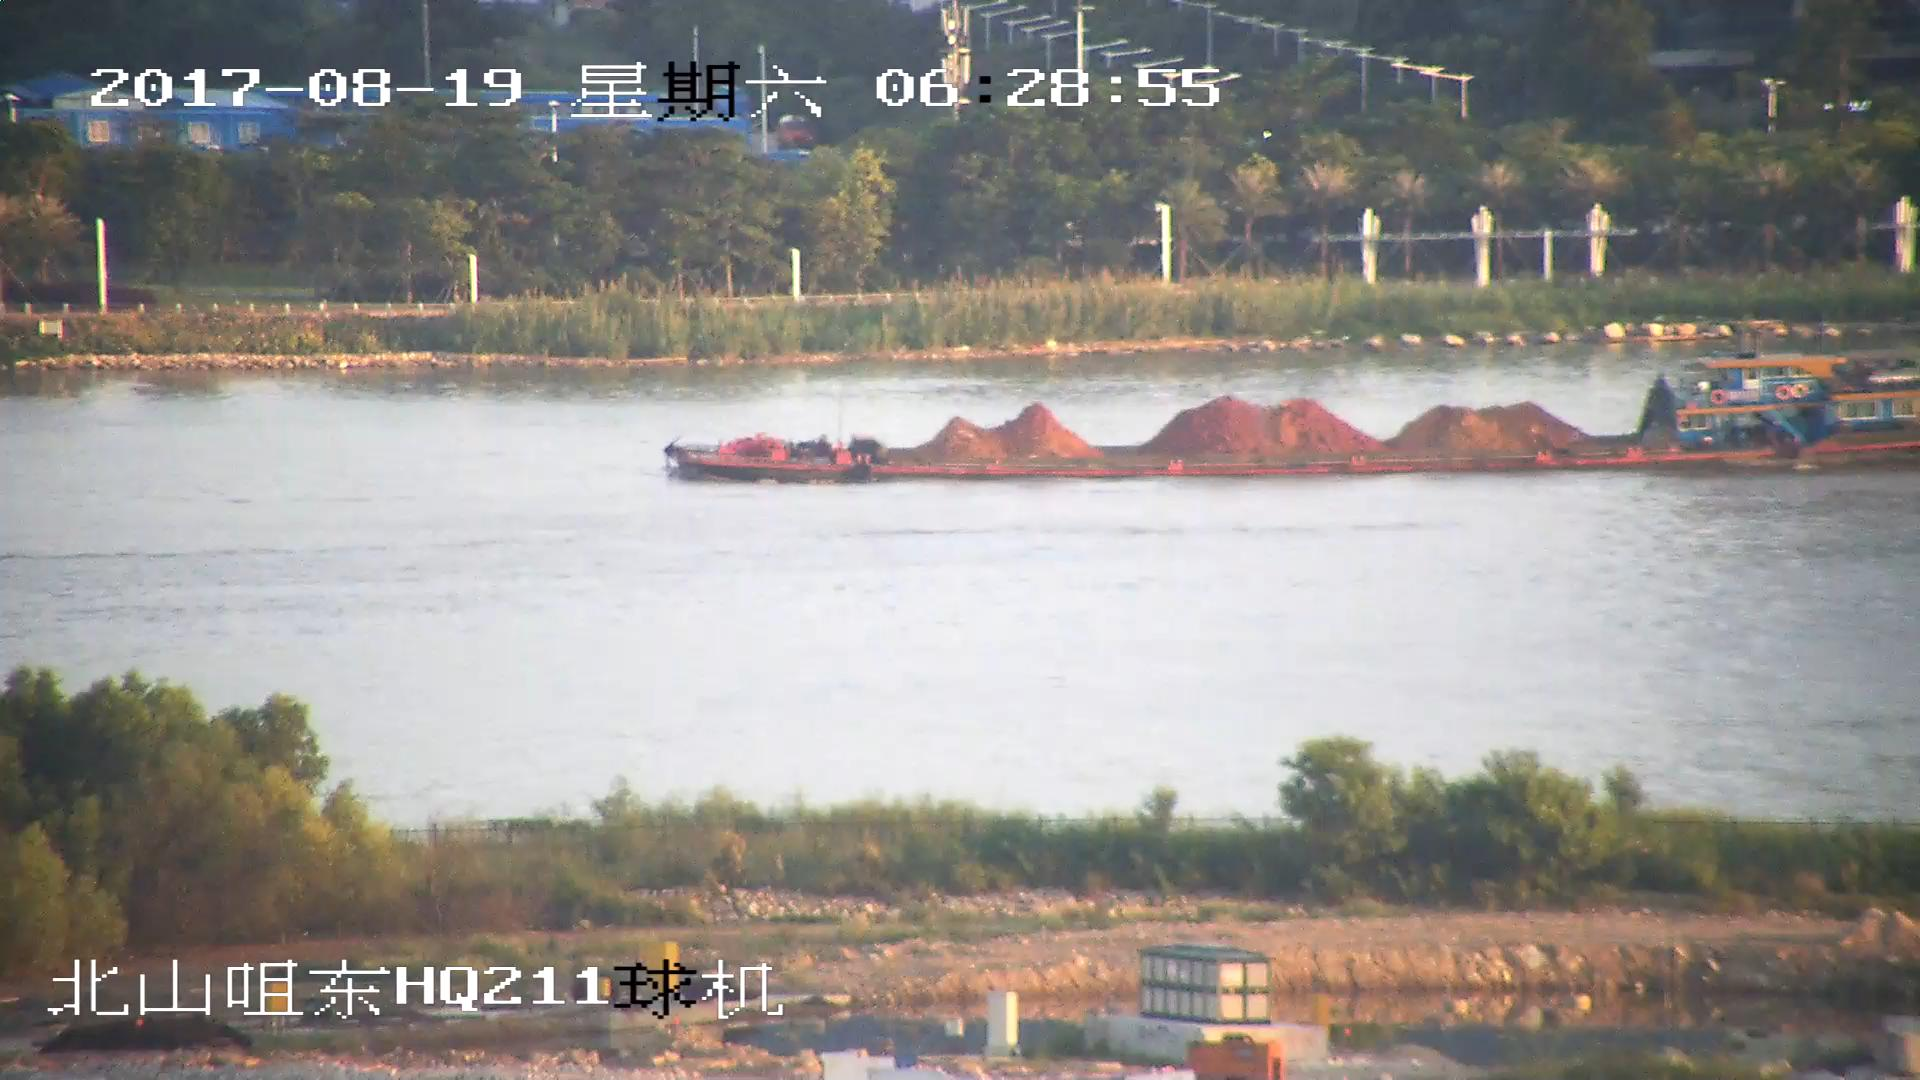ore carrier: (661, 344, 1920, 482)
